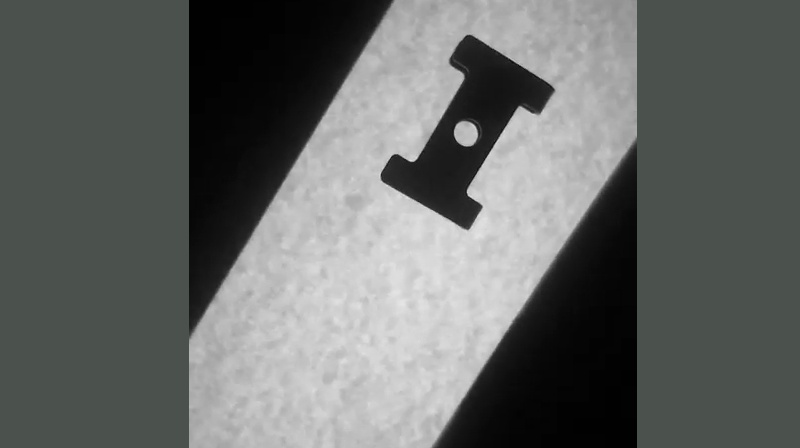O002: (377, 31, 556, 234)
